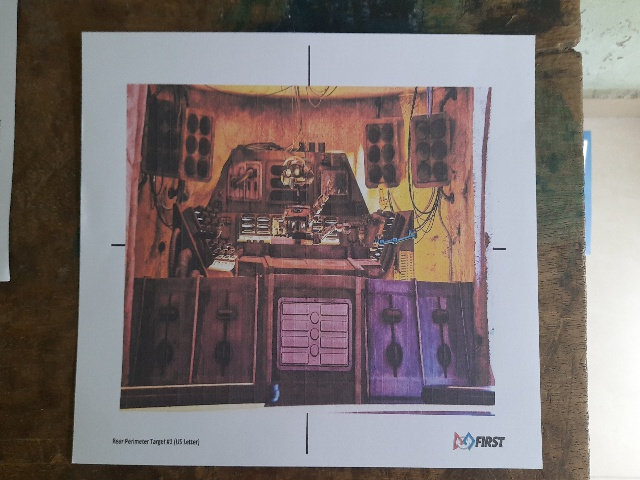rept1: (97, 46, 526, 459)
